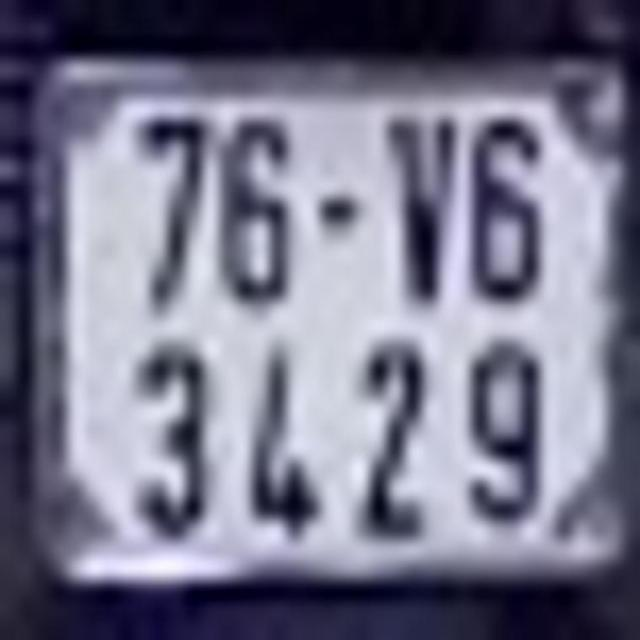2: (346, 339, 438, 544)
3: (128, 336, 227, 540)
4: (247, 338, 324, 545)
6: (216, 112, 298, 316), (470, 110, 549, 300)
7: (131, 104, 212, 319)
9: (465, 330, 546, 541)
V: (374, 105, 461, 305)
